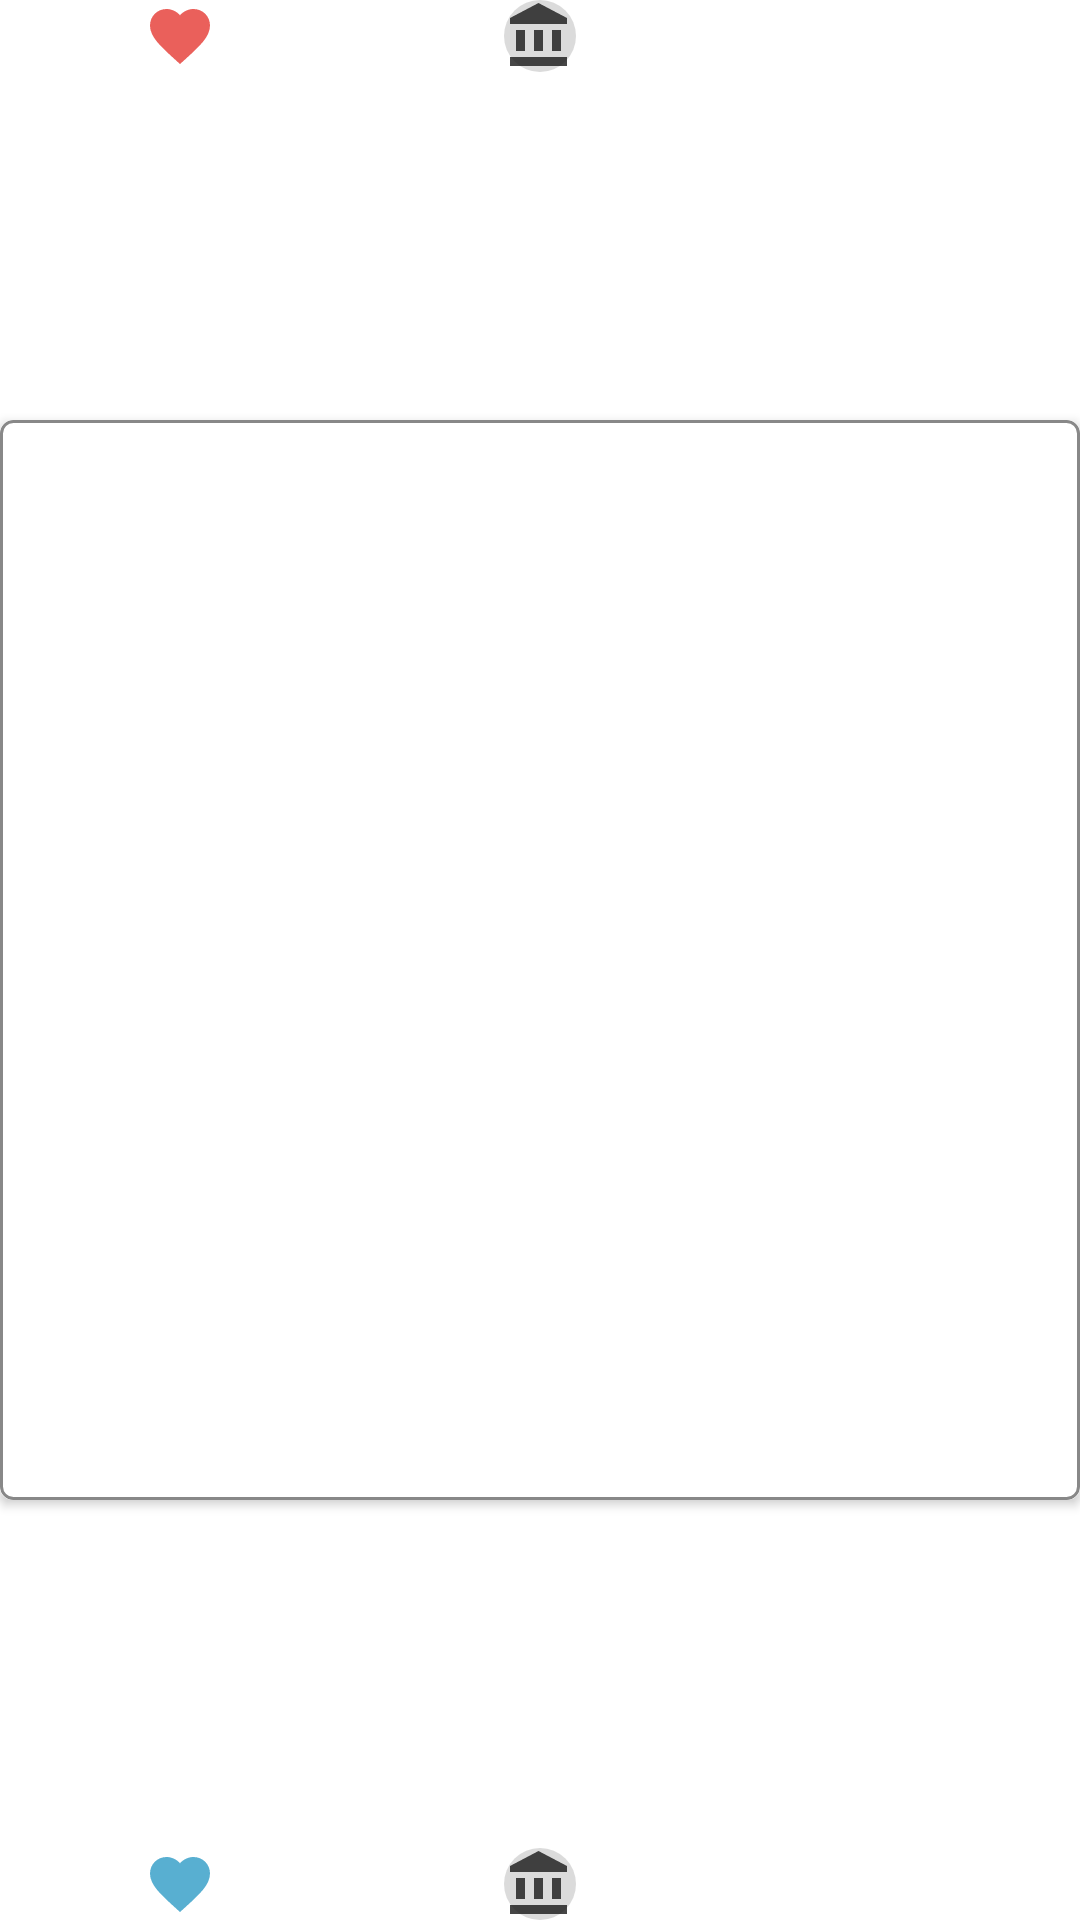

Icons on this 1080px×1920px Android screen, each with its box as [left=x1, top=y1, right=x2, bottom=y2]:
chess blood: [left=150, top=9, right=210, bottom=64], [left=150, top=1857, right=210, bottom=1912]
